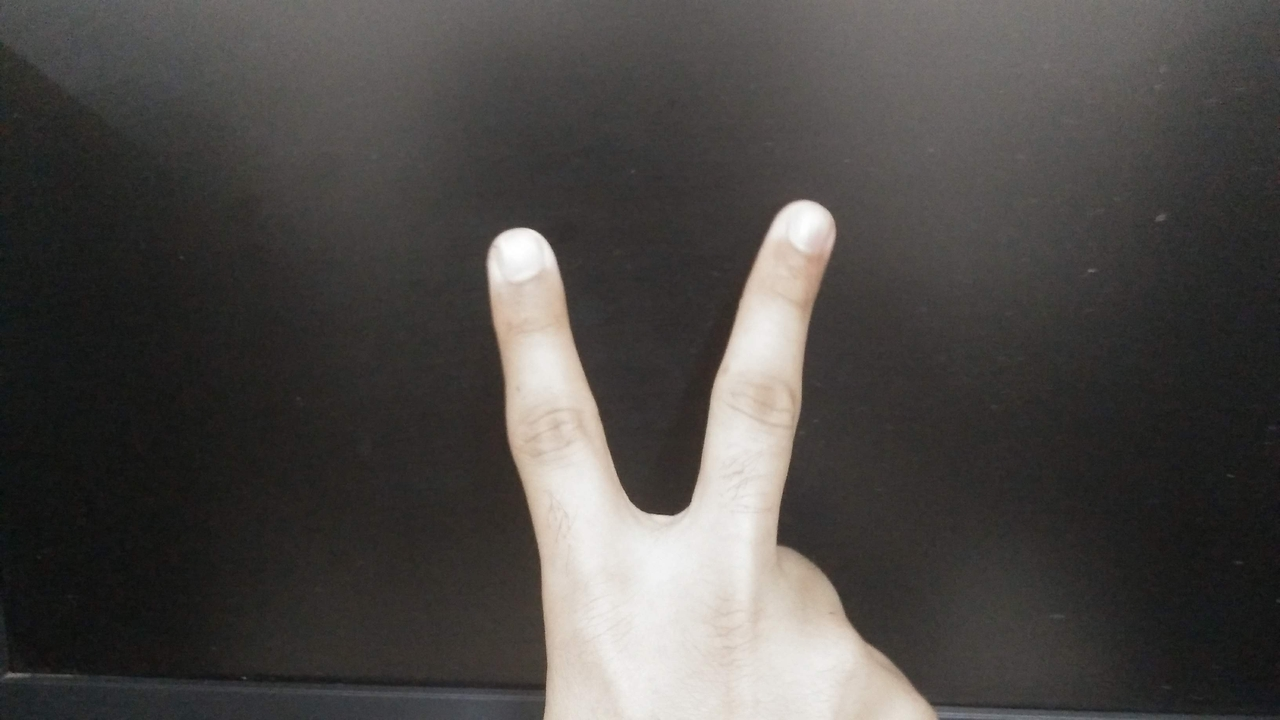fingertip: (764, 192, 850, 268), (480, 224, 566, 296)
